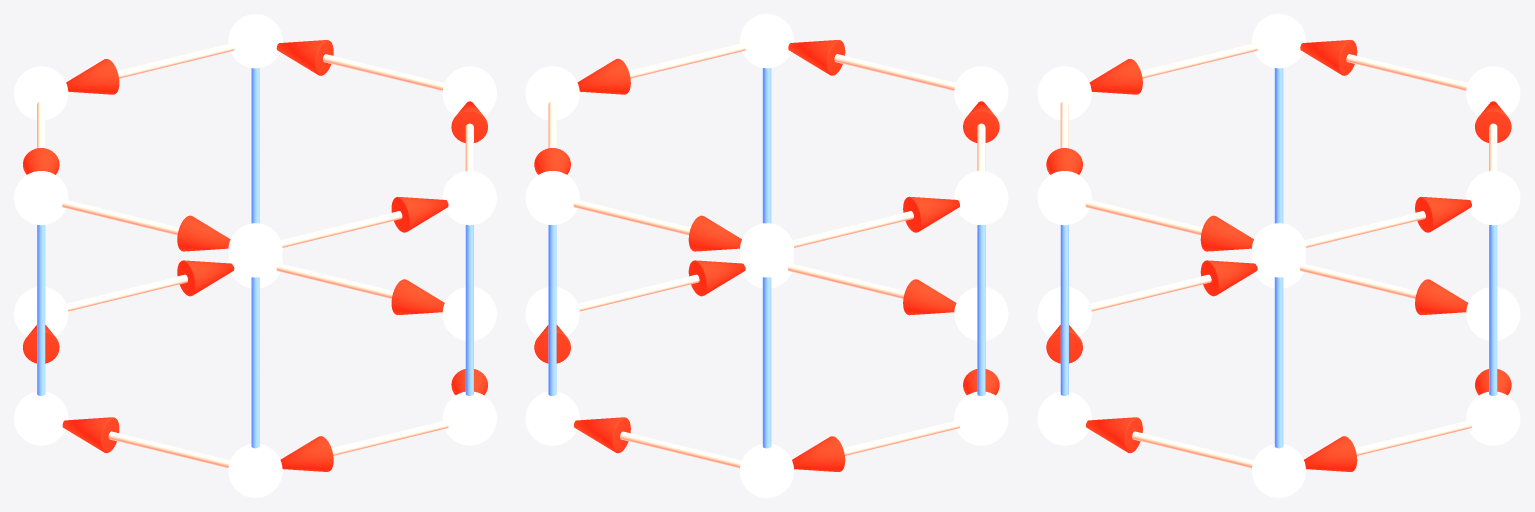
3 renders of one model, left to right at view 1: azimuth 30°, elevation 25°; view 2: azimuth 150°, elevation 25°; view 3: azimuth 270°, elevation 25°, orthographic.
Visible parts, largest first — view 1: Sphere1.0004, Sphere2.0004, Sphere1.0003, Sphere1.0005, Sphere2.0003, Sphere2.0005, Sphere1.0001, Sphere1.0002, Sphere1.0000, Sphere2.0000, Sphere2.0002, Vertical.0004 (+23 smaller); view 2: Sphere1.0002, Sphere1.0001, Sphere1.0003, Sphere2.0002, Sphere2.0003, Sphere2.0001, Sphere1.0005, Sphere1.0000, Sphere1.0004, Sphere2.0004, Sphere2.0000, Vertical.0002 (+23 smaller); view 3: Sphere1.0000, Sphere1.0001, Sphere1.0005, Sphere2.0000, Sphere2.0001, Sphere2.0005, Sphere1.0003, Sphere1.0004, Sphere1.0002, Sphere2.0002, Sphere2.0004, Vertical.0000 (+23 smaller).
Boxes of the visible parts, x1,y1,x2,y2 form: Sphere1.0004: (228,223,282,277); Sphere2.0004: (228,444,282,497); Sphere1.0003: (14,171,68,225); Sphere1.0005: (442,171,496,225); Sphere2.0003: (14,391,68,445); Sphere2.0005: (442,391,496,445); Sphere1.0001: (228,14,282,68); Sphere1.0002: (14,66,68,120); Sphere1.0000: (442,66,496,116); Sphere2.0000: (442,287,496,340); Sphere2.0002: (14,287,68,336); Vertical.0004: (251,277,259,448); Sphere1.0002: (739,223,794,277); Sphere1.0001: (525,171,579,224); Sphere1.0003: (954,171,1008,224); Sphere2.0002: (739,444,794,497); Sphere2.0003: (954,391,1008,445); Sphere2.0001: (525,392,579,445); Sphere1.0005: (739,14,794,68); Sphere1.0000: (525,66,579,120); Sphere1.0004: (954,66,1008,115); Sphere2.0004: (954,287,1008,340); Sphere2.0000: (525,287,579,336); Vertical.0002: (762,277,771,448); Sphere1.0000: (1251,223,1306,277); Sphere1.0001: (1466,171,1520,225); Sphere1.0005: (1037,171,1091,225); Sphere2.0000: (1251,444,1306,497); Sphere2.0001: (1466,391,1520,445); Sphere2.0005: (1037,391,1091,445); Sphere1.0003: (1251,14,1306,68); Sphere1.0004: (1037,66,1091,120); Sphere1.0002: (1466,66,1520,116); Sphere2.0002: (1466,287,1520,340); Sphere2.0004: (1037,287,1091,336); Vertical.0000: (1274,277,1283,448).
Bounding box in the file's own units: 1.31 × 0.7096 × 1.15.
